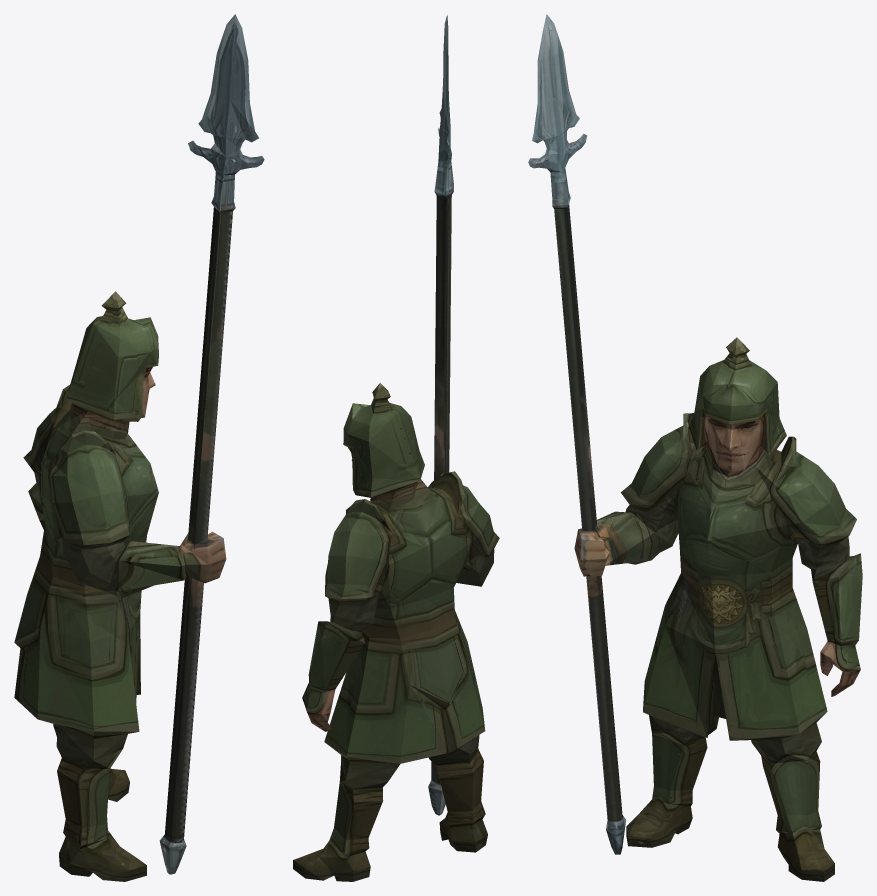
File: unit.glb
3 views of the same model, side by side, from view 1: azimuth 30°, elevation 25°; view 2: azimuth 150°, elevation 25°; view 3: azimuth 270°, elevation 25° (orthographic). The views are drawn at different scales.
Visible parts, largest first — view 1: tripo_node_4b05b727-6570-45bd-8e4d-7a032f447e3b; view 2: tripo_node_4b05b727-6570-45bd-8e4d-7a032f447e3b; view 3: tripo_node_4b05b727-6570-45bd-8e4d-7a032f447e3b.
Boxes of the visible parts, x1,y1,x2,y2 form: tripo_node_4b05b727-6570-45bd-8e4d-7a032f447e3b: [14, 14, 264, 881]; tripo_node_4b05b727-6570-45bd-8e4d-7a032f447e3b: [293, 15, 499, 881]; tripo_node_4b05b727-6570-45bd-8e4d-7a032f447e3b: [528, 14, 862, 881].
Bounding box in the file's own units: 0.1816 × 0.998 × 0.3535.
Materials: 1 (1 with a texture image).
